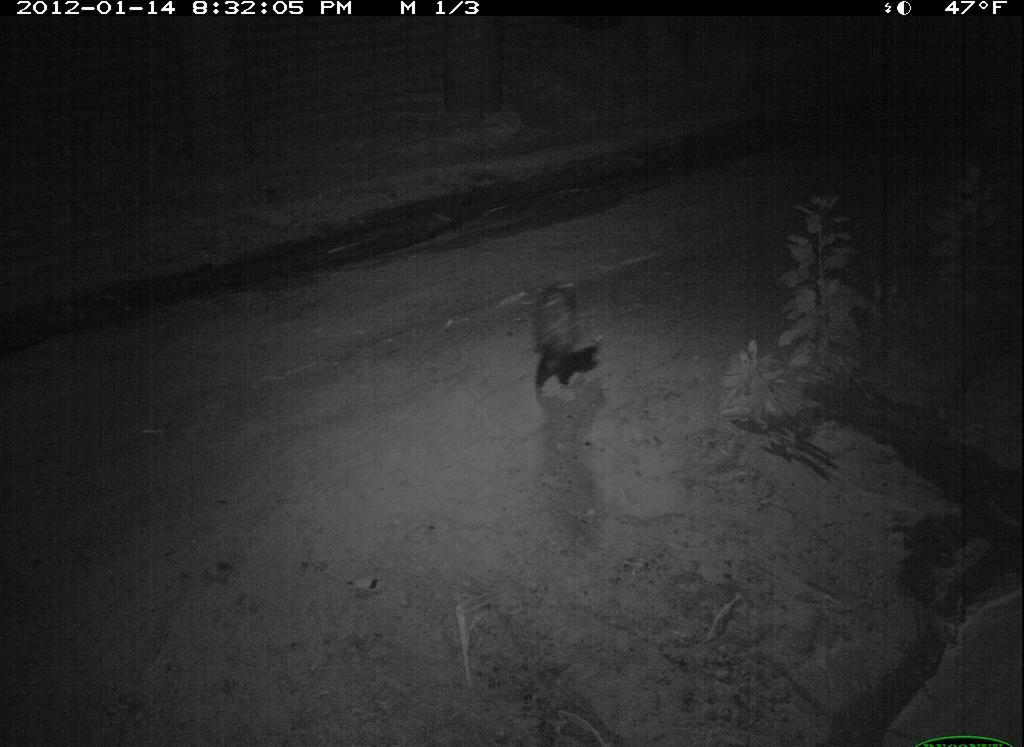skunk: (520, 260, 614, 418)
